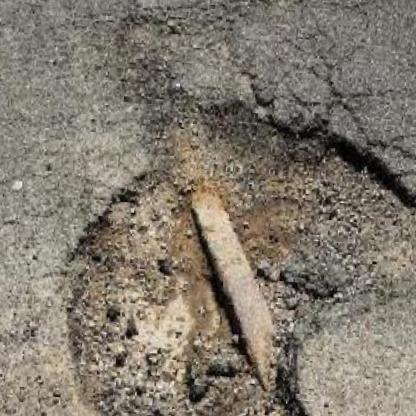pothole: (43, 76, 416, 416)
